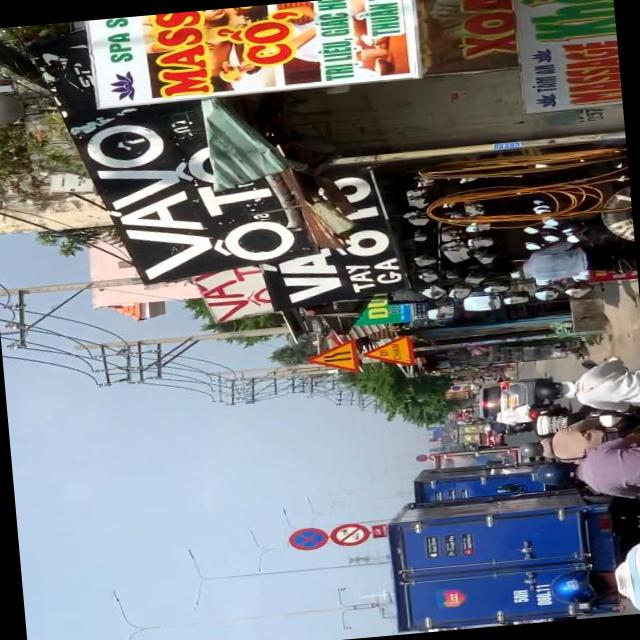P-130: (287, 528, 328, 550)
W-203c: (303, 340, 359, 376)
W-245a: (364, 335, 414, 367)
